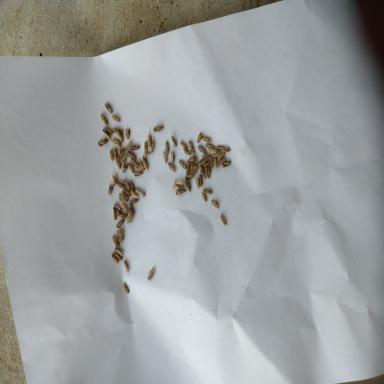pbw: (126, 151, 138, 163), (126, 210, 136, 224), (111, 235, 121, 248), (116, 227, 124, 243), (146, 266, 155, 280), (135, 187, 146, 198), (110, 251, 122, 261), (100, 113, 109, 126), (114, 156, 122, 170), (102, 129, 112, 140), (118, 193, 129, 203), (153, 122, 164, 132), (97, 138, 109, 147), (136, 158, 145, 170), (186, 154, 198, 163), (115, 218, 125, 228), (114, 247, 124, 257), (147, 127, 152, 147), (179, 140, 188, 151), (104, 102, 113, 113), (113, 127, 124, 136), (188, 140, 195, 154), (113, 212, 127, 219), (200, 190, 208, 202), (115, 181, 127, 189), (127, 179, 135, 191), (220, 214, 228, 226), (175, 187, 187, 195), (115, 130, 123, 142), (150, 135, 155, 153), (130, 189, 139, 199), (218, 157, 227, 167), (210, 198, 219, 208), (110, 254, 119, 264), (120, 153, 128, 164), (108, 182, 114, 196), (170, 134, 177, 146), (142, 158, 149, 170), (122, 161, 129, 173), (122, 282, 129, 294), (201, 156, 210, 165), (217, 152, 225, 162), (114, 204, 124, 212), (130, 158, 138, 168), (202, 186, 212, 194), (168, 162, 176, 172), (174, 178, 184, 186), (198, 146, 208, 154), (112, 137, 122, 145), (122, 179, 130, 189), (122, 188, 132, 196), (123, 260, 129, 273), (121, 202, 128, 213), (125, 124, 130, 139), (187, 178, 192, 193), (222, 160, 231, 168), (112, 172, 118, 184), (197, 131, 203, 143), (104, 127, 114, 134), (202, 135, 212, 142), (128, 198, 139, 204), (128, 162, 134, 173), (120, 147, 126, 158), (170, 150, 175, 163), (164, 141, 169, 154), (109, 148, 114, 161), (112, 114, 120, 122), (178, 160, 186, 168), (197, 158, 204, 167), (216, 145, 226, 151), (199, 166, 205, 176), (208, 148, 218, 154), (211, 152, 221, 158), (162, 152, 167, 164), (213, 157, 218, 169), (133, 171, 143, 177), (126, 140, 132, 150), (142, 152, 152, 158), (130, 145, 140, 151), (186, 162, 190, 176), (113, 206, 117, 220), (144, 140, 148, 154), (202, 161, 211, 167), (193, 161, 197, 174), (204, 166, 208, 179), (199, 174, 203, 187), (186, 173, 196, 178), (170, 185, 180, 190), (207, 167, 211, 179), (183, 149, 191, 155), (184, 176, 188, 188), (128, 202, 134, 210), (195, 176, 199, 188), (117, 144, 121, 156), (205, 144, 216, 148), (201, 154, 211, 158), (114, 146, 117, 159), (210, 157, 213, 168), (223, 148, 231, 152), (190, 162, 193, 172)
